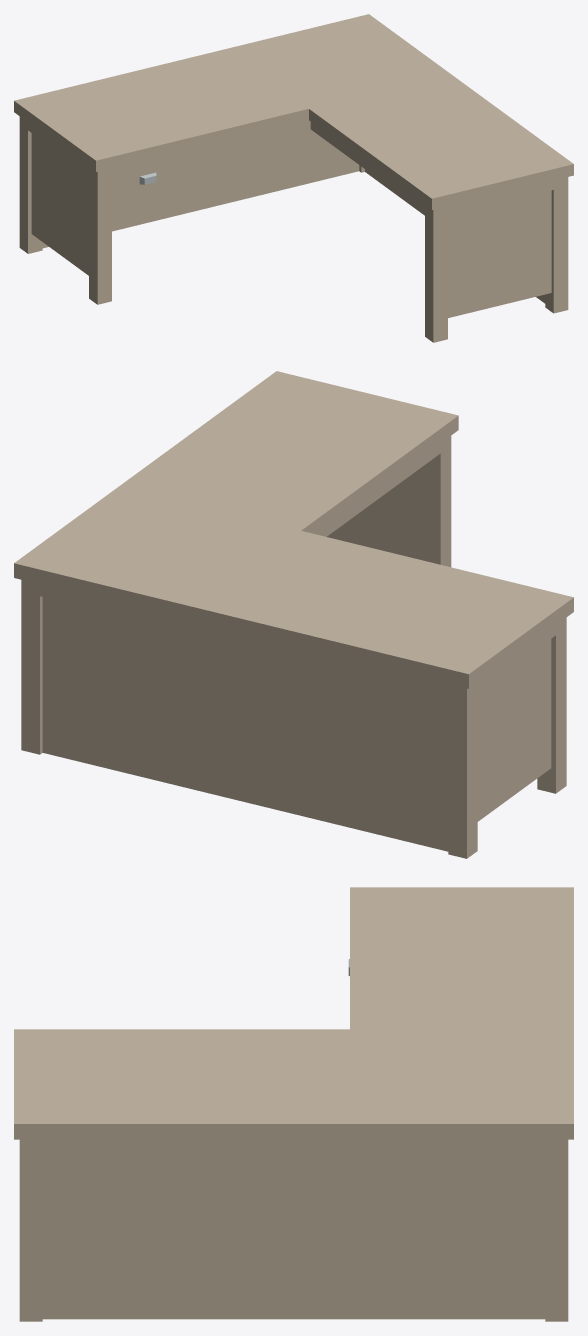
The model's file is desk_corner.glb.
3 views of the same model, one above another, from view 1: azimuth 30°, elevation 25°; view 2: azimuth 150°, elevation 25°; view 3: azimuth 270°, elevation 25° (orthographic). The views are drawn at different scales.
Parts seen in each view (by area): view 1: desk_corner; view 2: desk_corner; view 3: desk_corner.
Part boxes in pixels (x1=…): desk_corner: x1=14, y1=14, x2=573, y2=342; desk_corner: x1=14, y1=371, x2=573, y2=858; desk_corner: x1=14, y1=887, x2=573, y2=1321.
Bounding box in the file's own units: 64 × 25.25 × 64.
